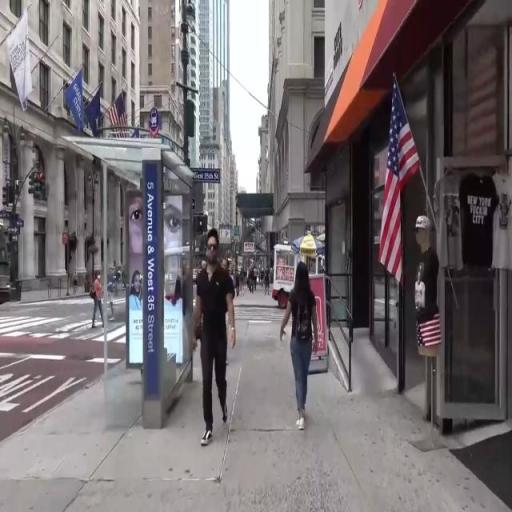person: (184, 228, 242, 452), (274, 259, 323, 438), (88, 273, 109, 336)
